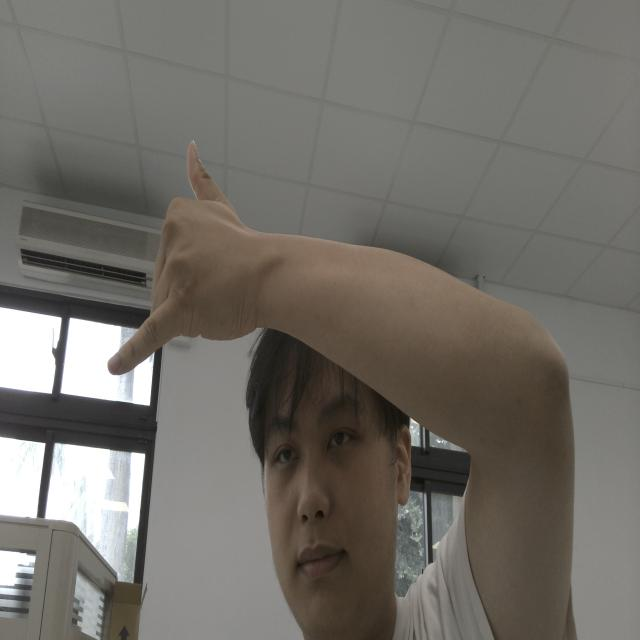objects: (70, 143, 259, 460)
